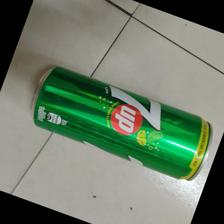7up: (28, 65, 214, 182)
